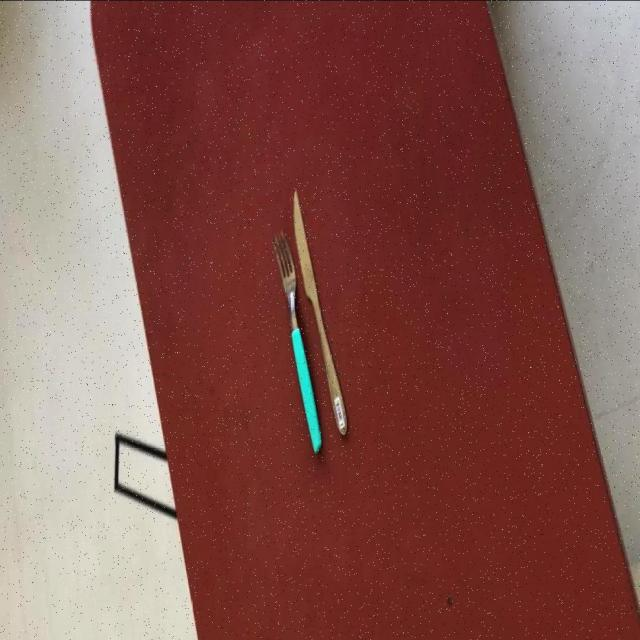Fork: (271, 229, 322, 456)
Knife: (291, 190, 348, 437), (271, 229, 322, 457)
